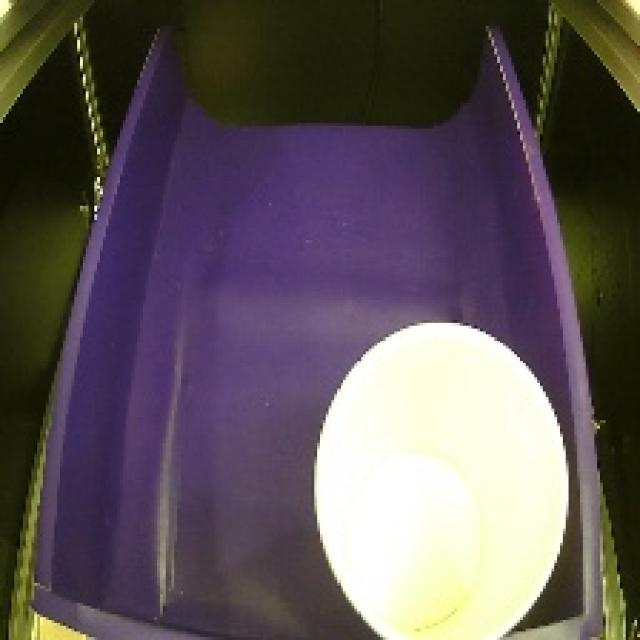cups: (308, 306, 575, 640)
